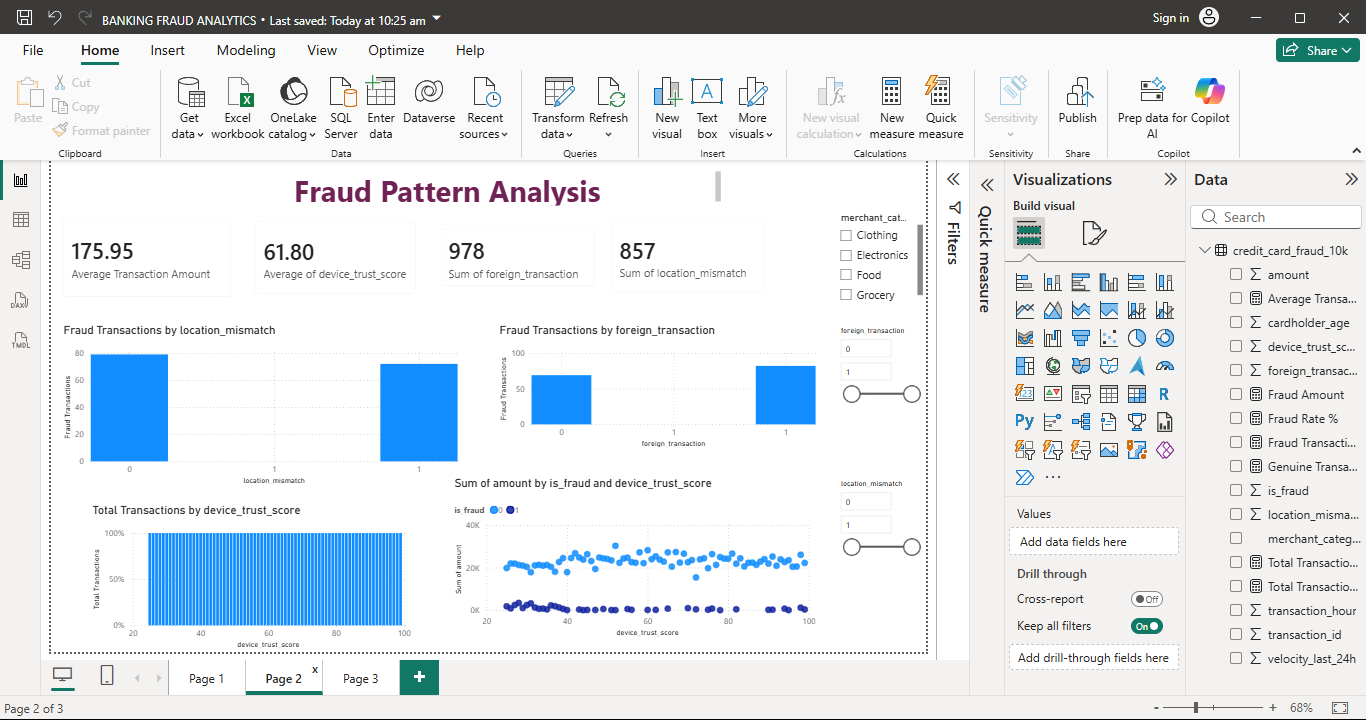

Layout of this report page (visuals, bound fields, positions):
{"tool":"powerbi","page":{"name":"Page 2","canvas":[1280,720],"ordinal":1},"visuals":[{"type":"textbox","box":[351.2,11.7,633.7,60],"z":0},{"type":"clusteredColumnChart","fields":{"Category":["credit_card_fraud_10k.location_mismatch"],"Y":["credit_card_fraud_10k.Fraud Transactions"]},"box":[13.2,238.5,586.8,241.5],"z":1000},{"type":"clusteredColumnChart","fields":{"Category":["credit_card_fraud_10k.foreign_transaction"],"Y":["credit_card_fraud_10k.Fraud Transactions"]},"box":[651.2,238.5,472.7,187.3],"z":2000},{"type":"hundredPercentStackedColumnChart","fields":{"Y":["credit_card_fraud_10k.Total Transactions"],"Category":["credit_card_fraud_10k.device_trust_score"]},"box":[55.6,502,477.1,218],"z":3000},{"type":"scatterChart","fields":{"Series":["credit_card_fraud_10k.is_fraud"],"Y":["Sum(credit_card_fraud_10k.amount)"],"X":["credit_card_fraud_10k.device_trust_score"]},"box":[585.4,462.4,538.5,240],"z":4000},{"type":"cardVisual","fields":{"Data":["credit_card_fraud_10k.Average Transaction Amount"]},"box":[0,67.3,281,150.7],"z":5000},{"type":"cardVisual","fields":{"Data":["Sum(credit_card_fraud_10k.foreign_transaction)"]},"box":[551.7,83.4,262,118.5],"z":6000},{"type":"cardVisual","fields":{"Data":["Sum(credit_card_fraud_10k.location_mismatch)"]},"box":[802,71.7,259,139],"z":7000},{"type":"cardVisual","fields":{"Data":["Avg(credit_card_fraud_10k.device_trust_score)"]},"box":[281,71.7,270.7,142],"z":8000},{"type":"slicer","fields":{"Values":["credit_card_fraud_10k.merchant_category"]},"box":[1142.9,71.7,137.6,150.7],"z":9000},{"type":"slicer","fields":{"Values":["credit_card_fraud_10k.foreign_transaction"]},"box":[1142.9,238.5,137.6,187.3],"z":10000},{"type":"slicer","fields":{"Values":["credit_card_fraud_10k.location_mismatch"]},"box":[1142.9,462.4,137.6,187.3],"z":11000},{"type":"slicer","fields":{"Values":["credit_card_fraud_10k.is_fraud"]},"box":[980,482.9,300,158],"z":12000}]}

Visuals, with their boxes on the page's 1280x720 design canvas (x1, y1, x2, y2). These are canvas units, not pixel positions in the 1366x720 screenshot, which may show the page scaled, cropped or inside an application window:
textbox: [x1=351, y1=12, x2=985, y2=72]
clusteredColumnChart - credit_card_fraud_10k.location_mismatch x credit_card_fraud_10k.Fraud Transactions: [x1=13, y1=238, x2=600, y2=480]
clusteredColumnChart - credit_card_fraud_10k.foreign_transaction x credit_card_fraud_10k.Fraud Transactions: [x1=651, y1=238, x2=1124, y2=426]
hundredPercentStackedColumnChart - credit_card_fraud_10k.Total Transactions x credit_card_fraud_10k.device_trust_score: [x1=56, y1=502, x2=533, y2=720]
scatterChart - credit_card_fraud_10k.is_fraud x Sum(credit_card_fraud_10k.amount): [x1=585, y1=462, x2=1124, y2=702]
cardVisual - credit_card_fraud_10k.Average Transaction Amount: [x1=0, y1=67, x2=281, y2=218]
cardVisual - Sum(credit_card_fraud_10k.foreign_transaction): [x1=552, y1=83, x2=814, y2=202]
cardVisual - Sum(credit_card_fraud_10k.location_mismatch): [x1=802, y1=72, x2=1061, y2=211]
cardVisual - Avg(credit_card_fraud_10k.device_trust_score): [x1=281, y1=72, x2=552, y2=214]
slicer - credit_card_fraud_10k.merchant_category: [x1=1143, y1=72, x2=1280, y2=222]
slicer - credit_card_fraud_10k.foreign_transaction: [x1=1143, y1=238, x2=1280, y2=426]
slicer - credit_card_fraud_10k.location_mismatch: [x1=1143, y1=462, x2=1280, y2=650]
slicer - credit_card_fraud_10k.is_fraud: [x1=980, y1=483, x2=1280, y2=641]
